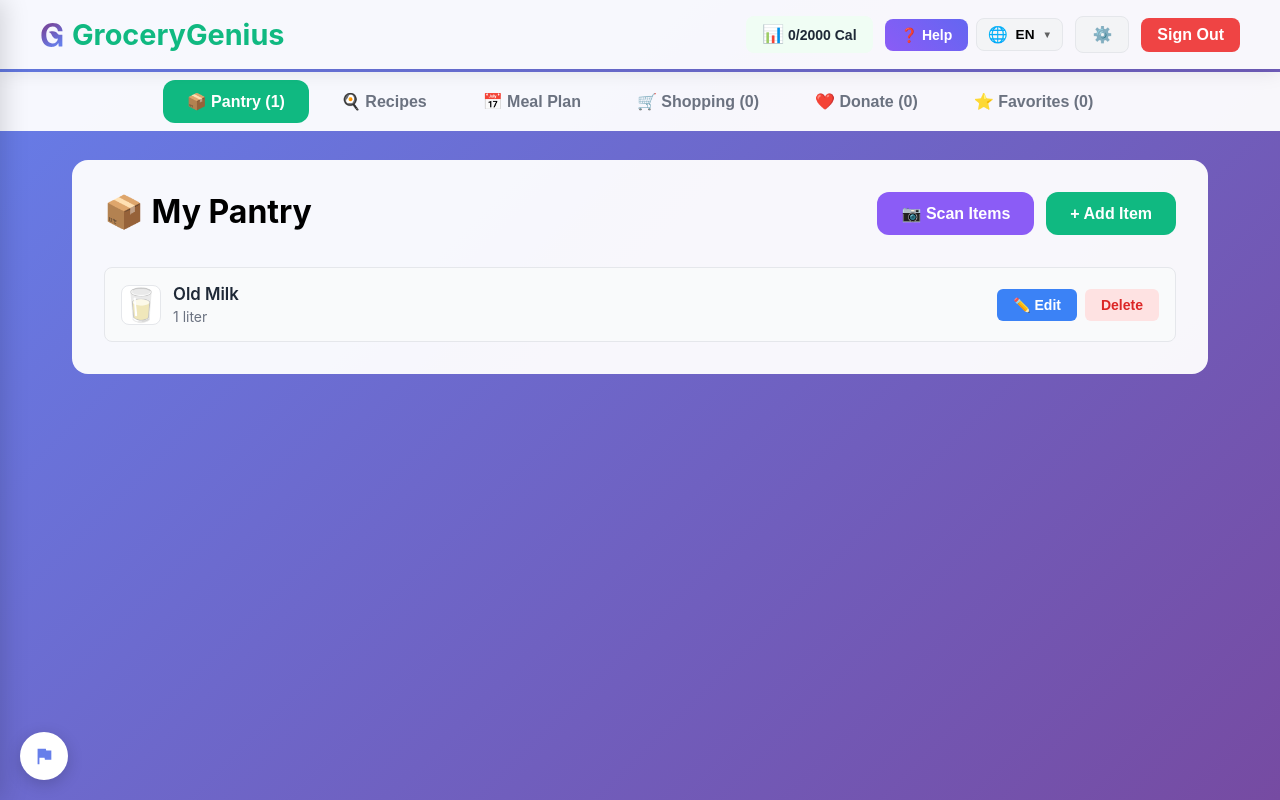
Test case: Pantry add / delete › deletes a pantry item only after a second confirming tap
Check: the button "📊 0/2000 Cal" is shown, box [746,16,873,53]
Check: the text "Old Milk" is shown, box [173,284,239,304]
Click the button "Delete" at point(1122, 304), box [1085,288,1159,320]
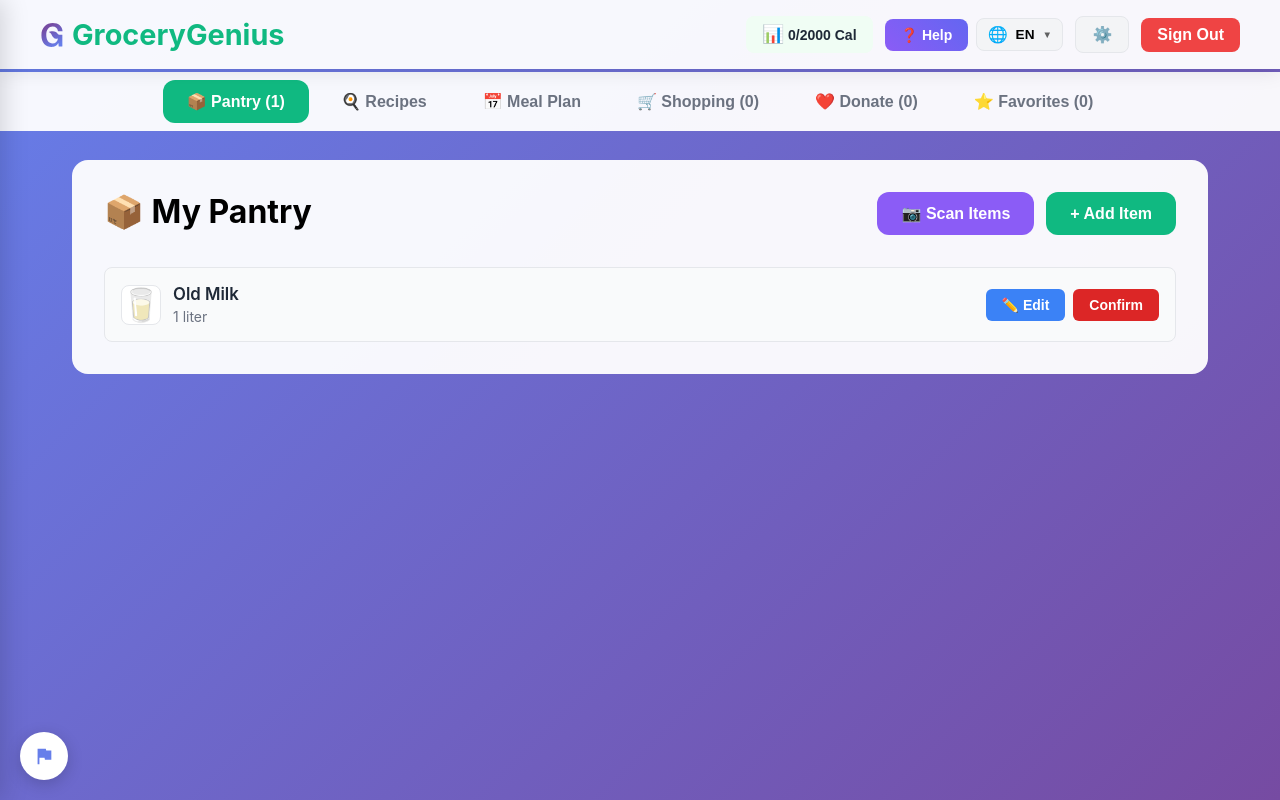
Check: the text "Old Milk" is shown, box [173,284,239,304]
Click the button "Confirm" at point(1116, 304), box [1073,288,1159,320]
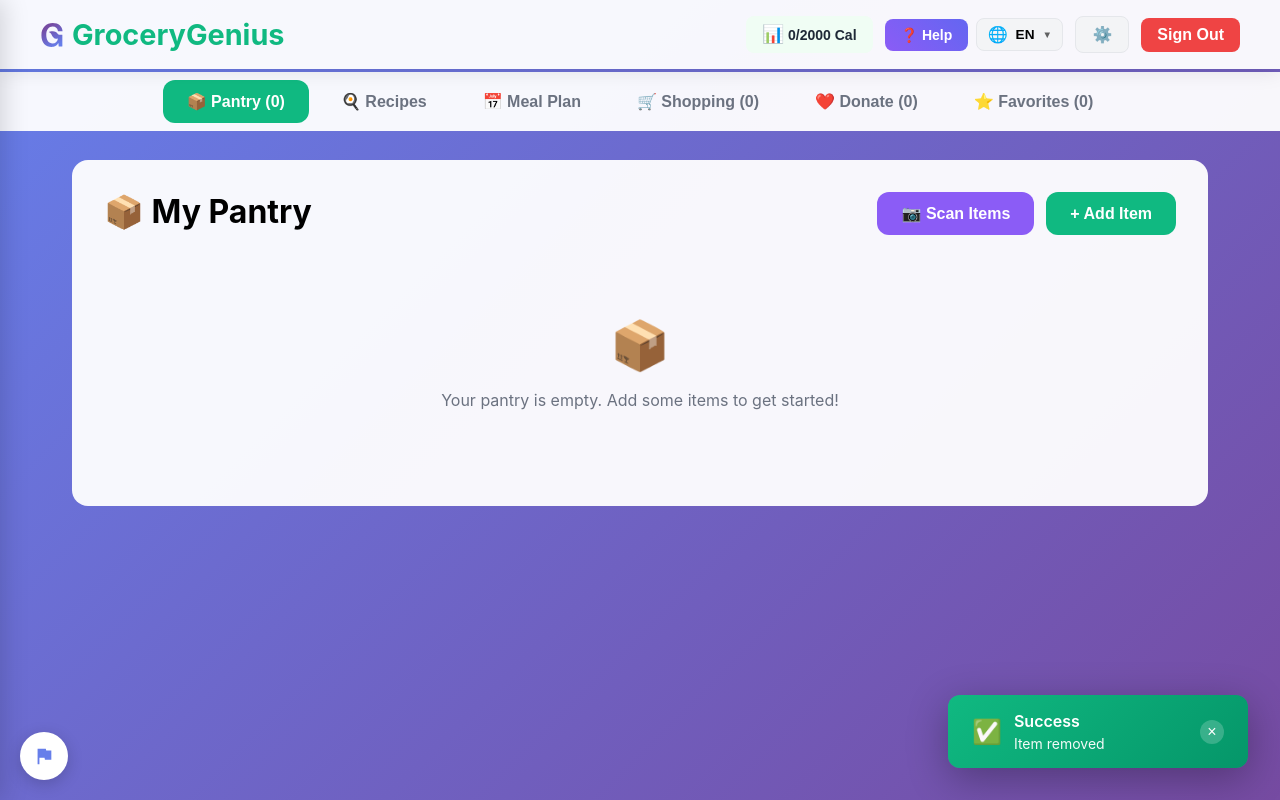
Check: the text "Old Milk" is gone
